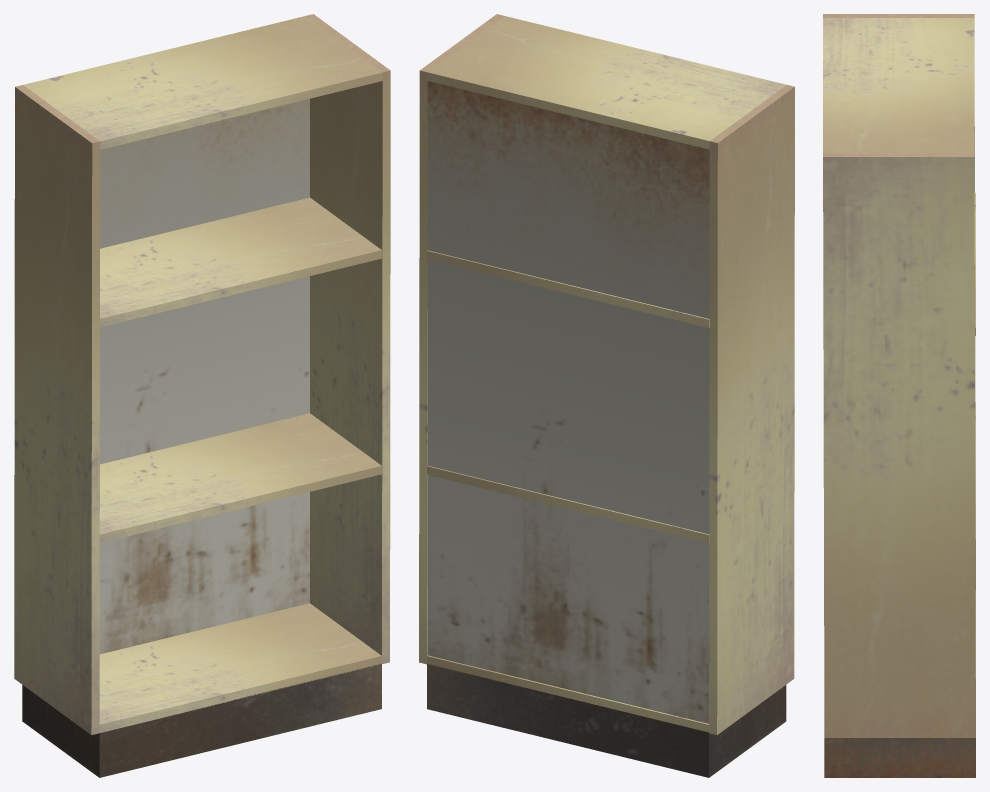
File: cabin02ab.fbx
3 renders of one model, left to right at view 1: azimuth 30°, elevation 25°; view 2: azimuth 150°, elevation 25°; view 3: azimuth 270°, elevation 25°, orthographic.
Visible parts, largest first — view 1: cabin02ab; view 2: cabin02ab; view 3: cabin02ab.
Part boxes in pixels (box(x1,y1,x2,y2)): cabin02ab: box(14, 14, 390, 777); cabin02ab: box(419, 14, 794, 777); cabin02ab: box(823, 14, 975, 777).
Size of the model in its own units: 73.97 by 151 by 33.45.
